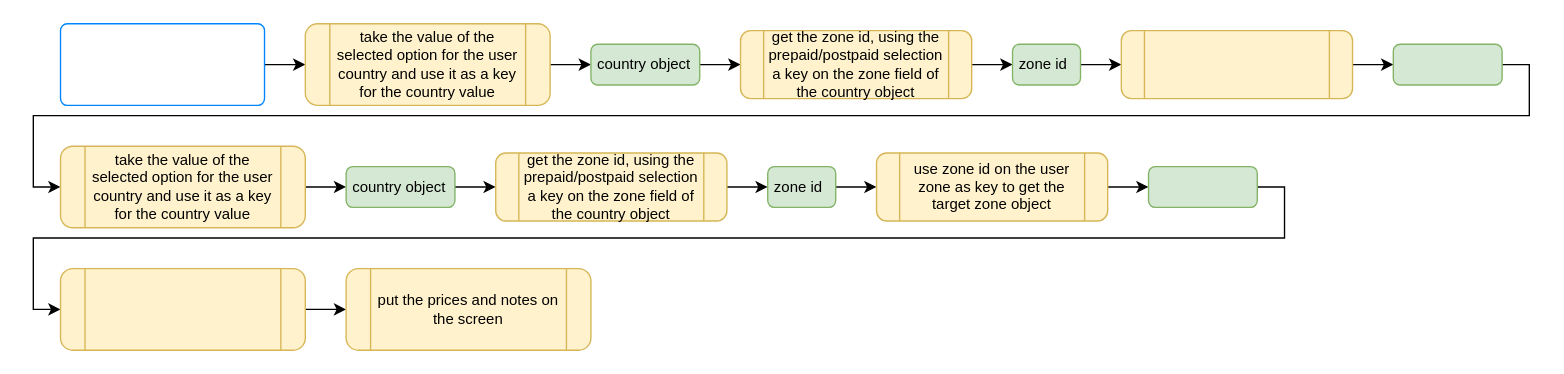
Image size: 1564x374. Some labels were removed from this diagram. The shapes that lost their labels are listed below. From the top down, each one's box as (x1, y1, x2, y2) in pixels, then its label:
(59, 22, 265, 105): User and target country selected
(1120, 29, 1353, 99): use zone id as key to get the zone object
(1392, 43, 1502, 85): zone object
(1147, 165, 1257, 207): target zone object
(59, 267, 305, 350): use both objects and read the price data from them
